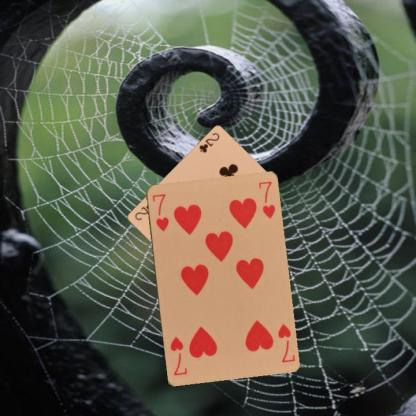2c: (196, 131, 221, 154)
7h: (275, 321, 296, 364), (149, 191, 170, 232)
